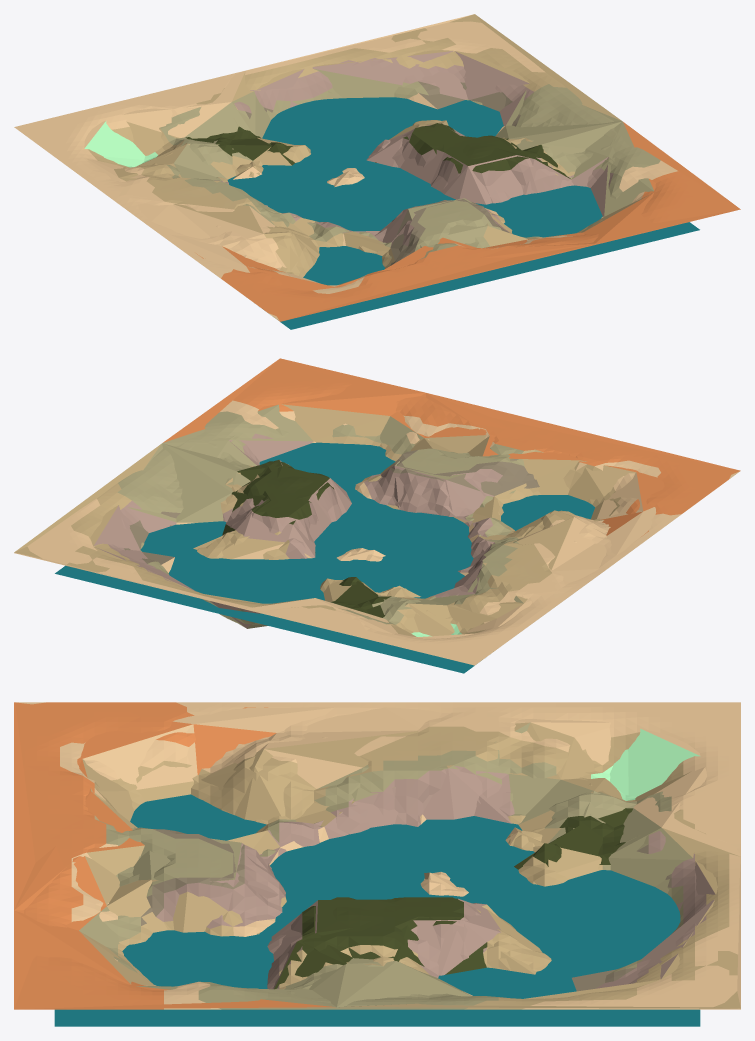
The model's file is Landscapes.fbx.
3 renders of one model, top to bottom at view 1: azimuth 30°, elevation 25°; view 2: azimuth 150°, elevation 25°; view 3: azimuth 270°, elevation 25°, orthographic. The views are drawn at different scales.
Parts seen in each view (by area): view 1: MainLand, MainLandCol, WaterPlane; view 2: MainLand, MainLandCol, WaterPlane; view 3: MainLand, MainLandCol, WaterPlane.
Part boxes in pixels (box(x1,y1,x2,y2)): MainLand: box(14, 21, 740, 320); MainLandCol: box(43, 14, 739, 321); WaterPlane: box(227, 97, 699, 329); MainLand: box(14, 358, 738, 665); MainLandCol: box(14, 358, 740, 641); WaterPlane: box(55, 442, 594, 673); MainLand: box(14, 702, 740, 1009); MainLandCol: box(14, 702, 740, 1009); WaterPlane: box(54, 794, 700, 1026).
Bounding box in the file's own units: 3000070 × 412427 × 3000000.
